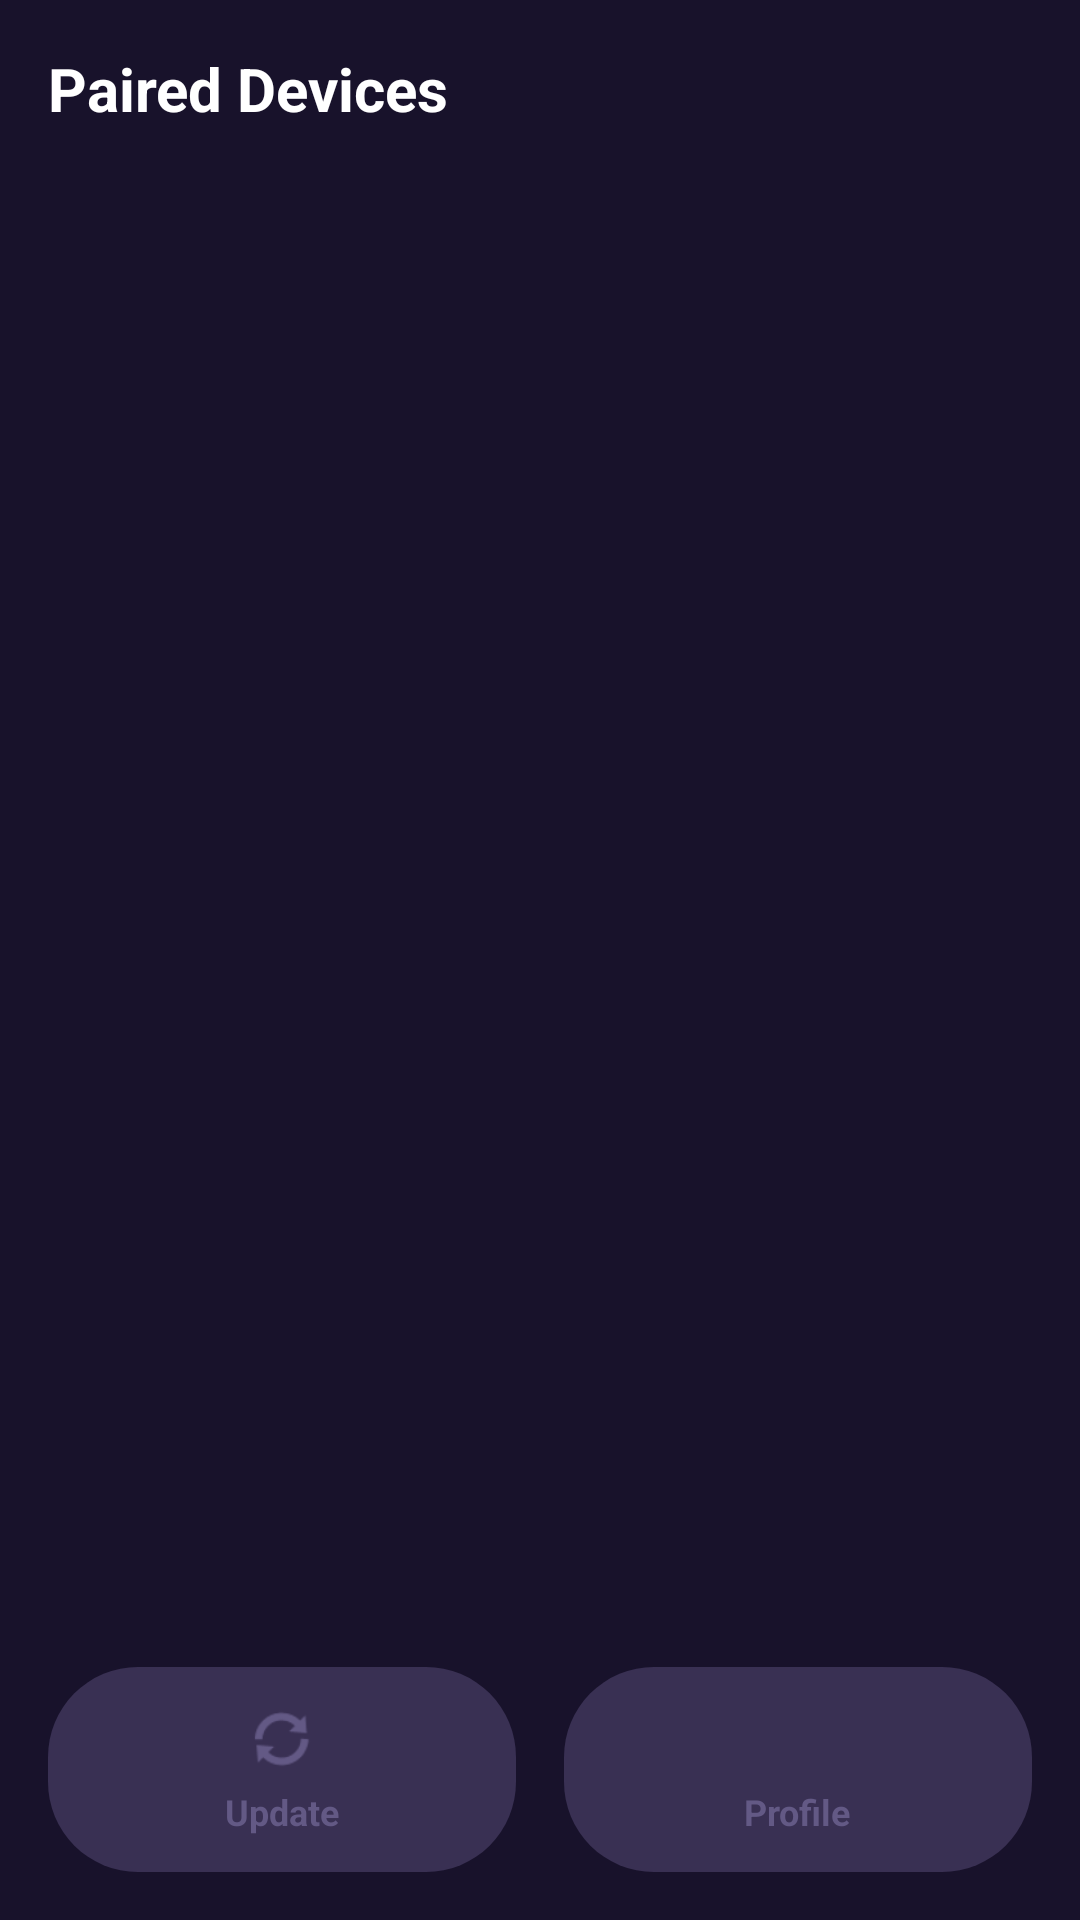

Icons on this 1080px x 1920px Android screen, each with the point to tap as (x,y):
popup sync: (281,1739)
